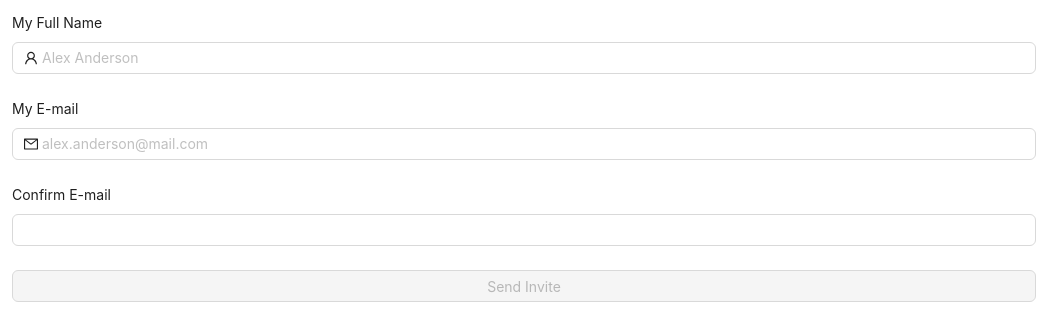
Scenario: RequestEmailForm › Error Inputs › show validation error message on name < 3 characters
This screenshot has width=1048, height=319.
Type "bu" into the field labelled "My Full Name".
click(533, 58); type("bu")  # box [42,47,1024,69]
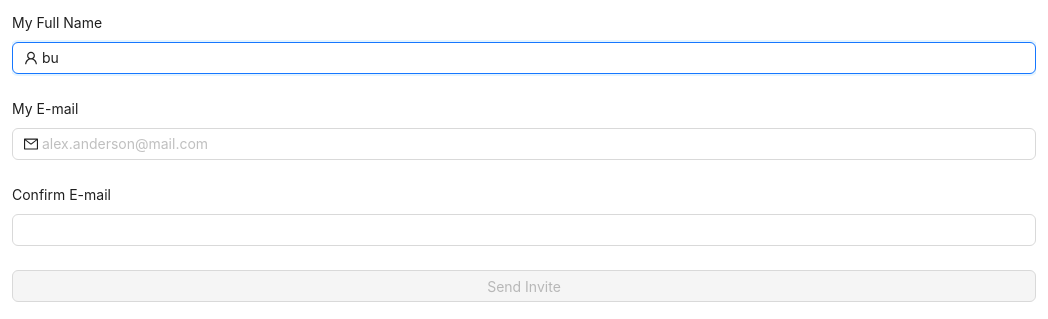
Press Tab
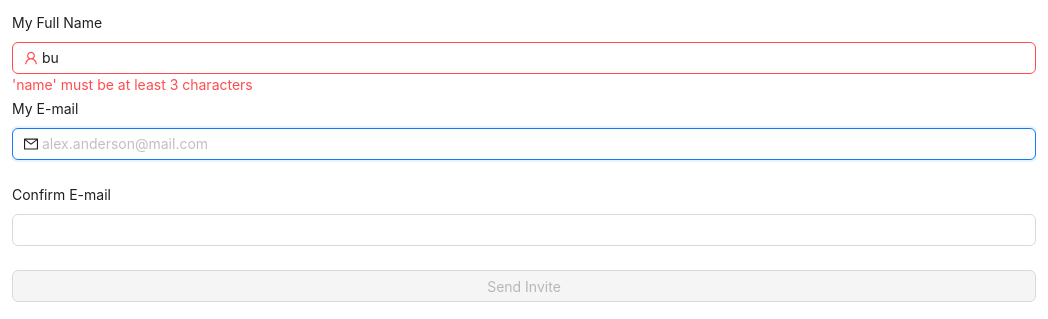
Check: the text "'name' must be at least 3 characters" is shown, box [12,76,253,93]
